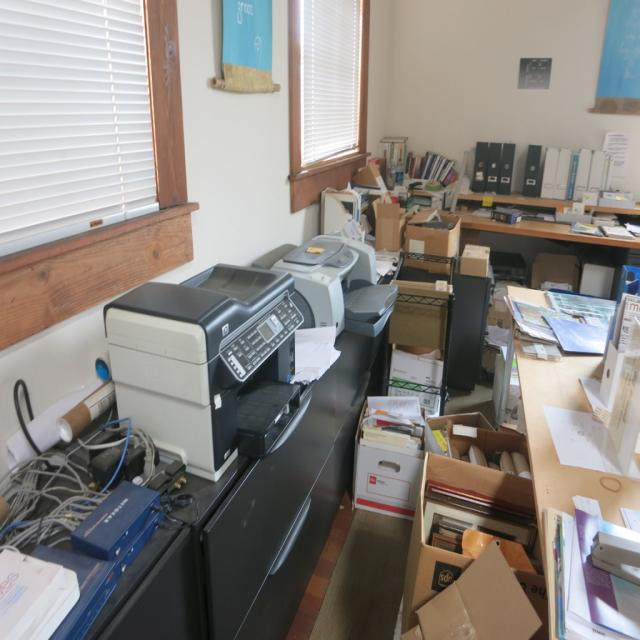printer: (92, 268, 342, 465)
